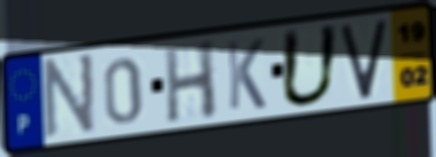0: (101, 55, 147, 127)
H: (161, 37, 220, 125)
K: (224, 36, 269, 112)
N: (42, 50, 96, 141)
U: (277, 22, 342, 110)
V: (338, 16, 389, 102)
